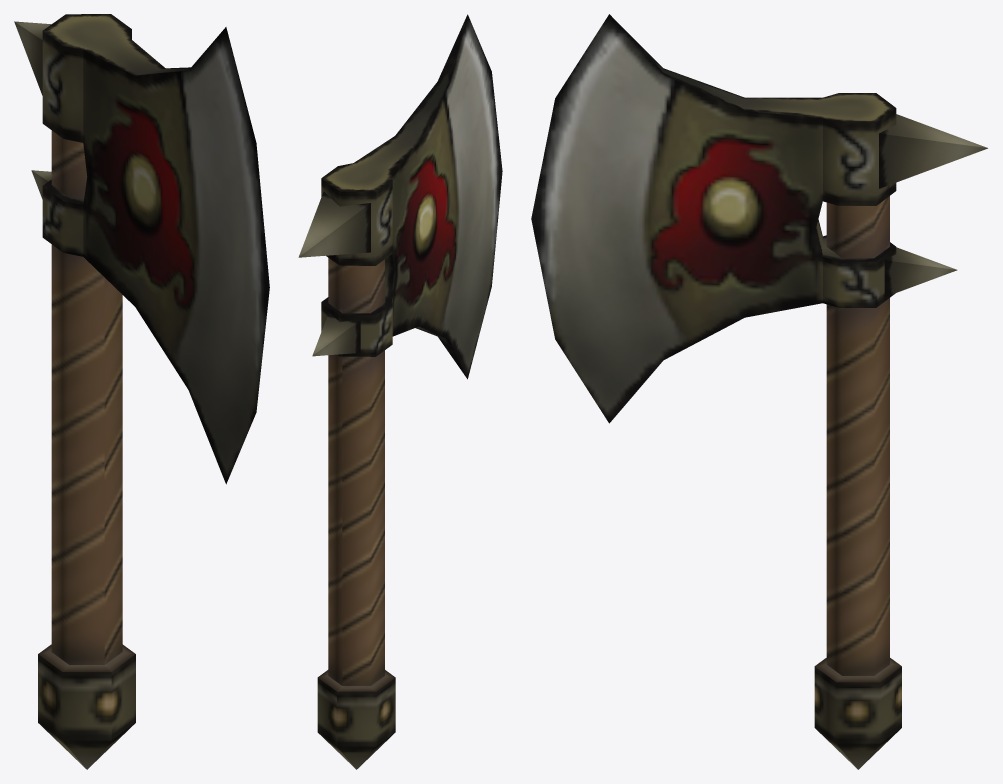
File: WP_1H_Axe08.FBX
3 renders of one model, left to right at view 1: azimuth 30°, elevation 25°; view 2: azimuth 150°, elevation 25°; view 3: azimuth 270°, elevation 25°, orthographic. The views are drawn at different scales.
Parts seen in each view (by area): view 1: WP_1H_Axe08; view 2: WP_1H_Axe08; view 3: WP_1H_Axe08.
Part boxes in pixels (x1,y1,x2,y2): WP_1H_Axe08: (14,14,269,769); WP_1H_Axe08: (298,14,502,769); WP_1H_Axe08: (531,14,987,769).
Size of the model in its own units: 7.95 by 87.41 by 47.94.
1 material, 1 textured.
